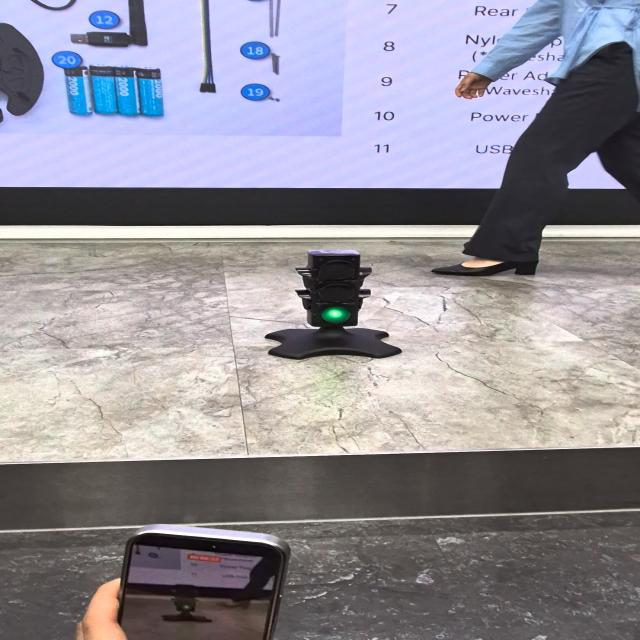green_light: (321, 307, 351, 323)
